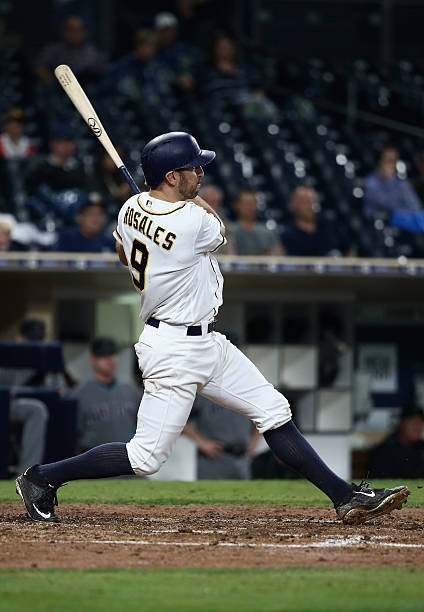bita: (58, 61, 144, 196)
